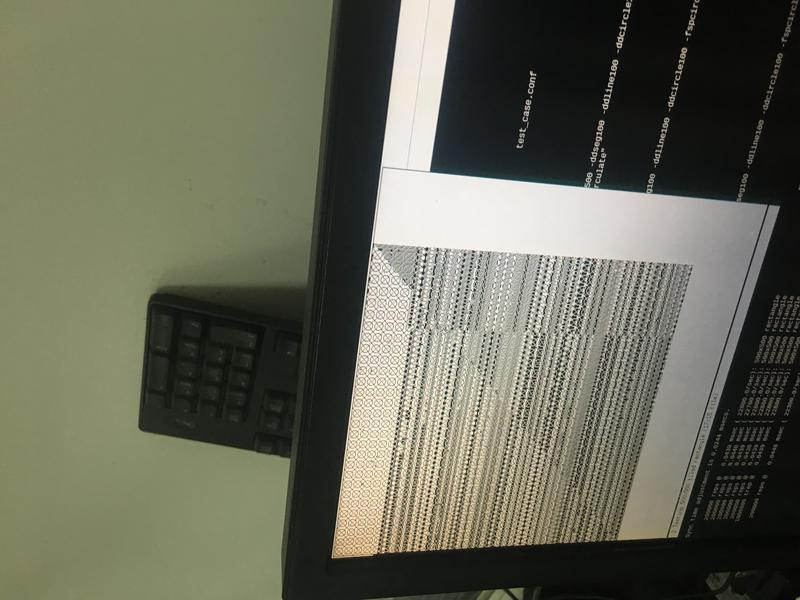xrandr_pass: (321, 143, 779, 553)
